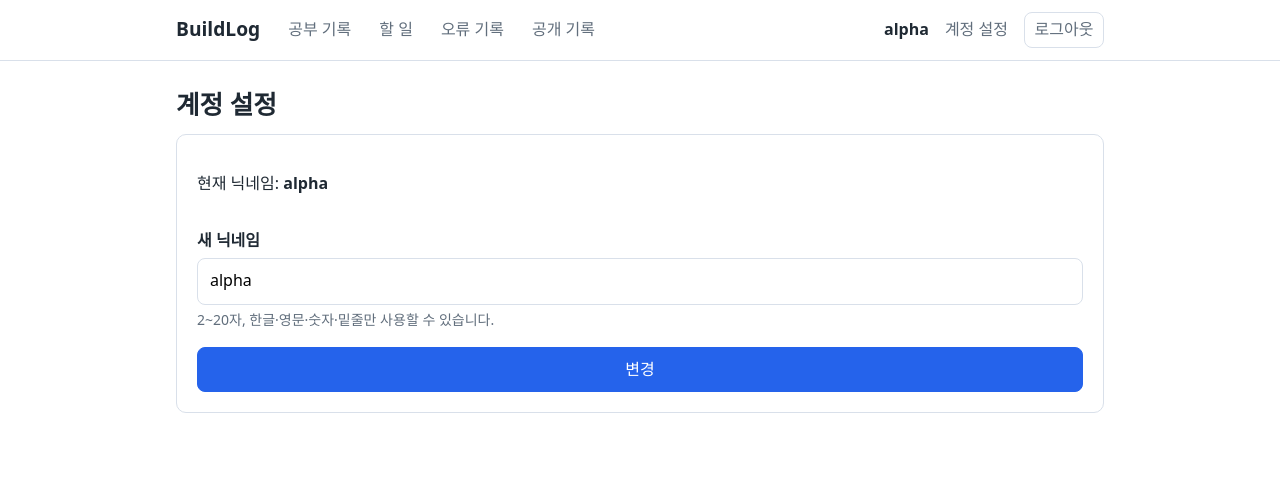
Test: 계정 설정(닉네임 변경) › 실패하면 이유를 알려주고 입력한 닉네임은 그대로 둔다
Replace the text in the field labelled "새 닉네임" with "taken": (640, 281) [197,258,1083,304]
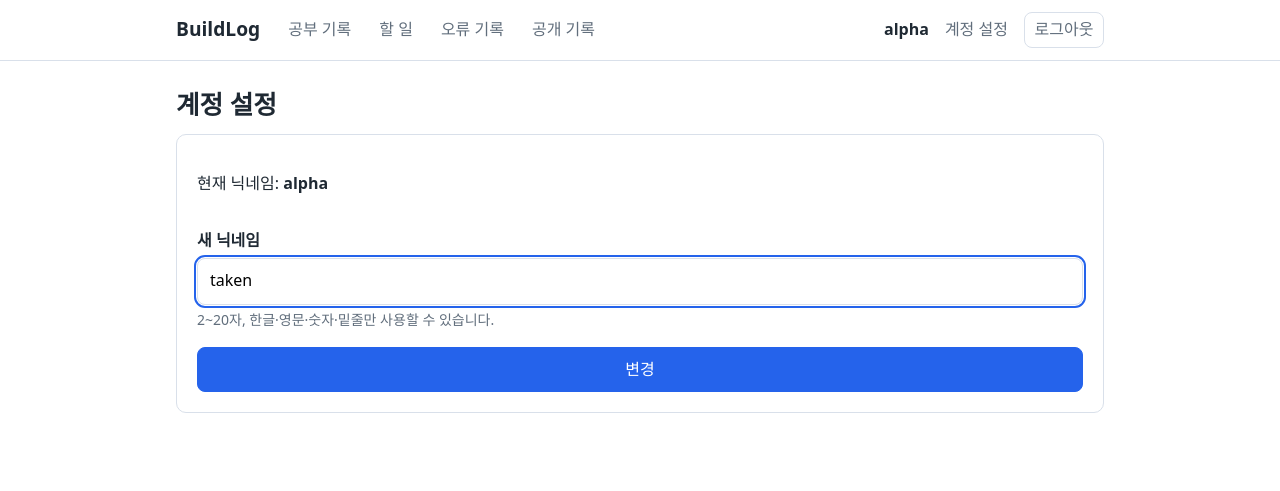
Click the button "변경": (640, 370) [197,347,1083,392]
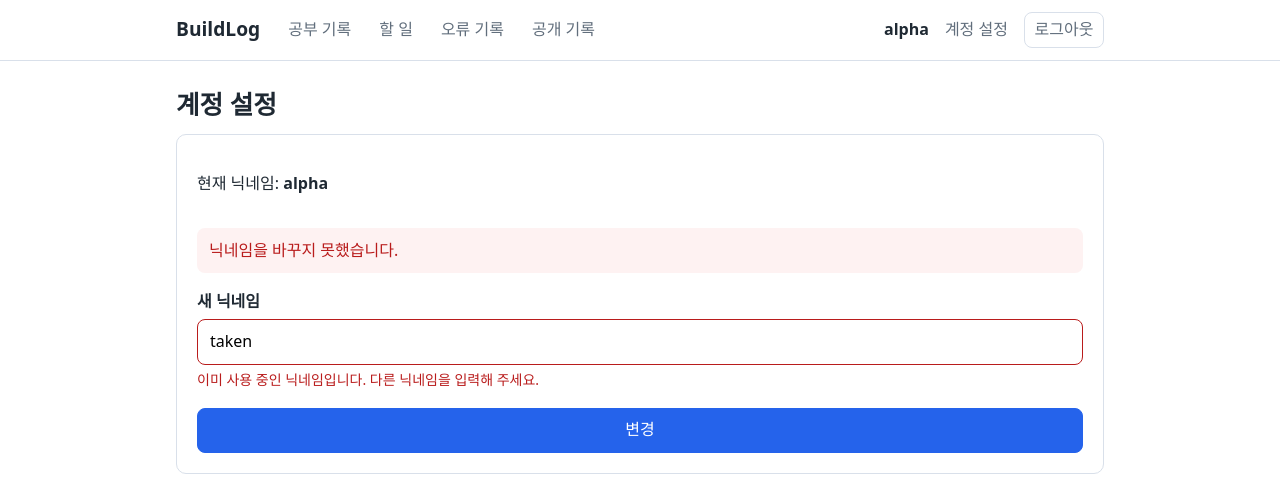
Expected: the text "alpha" next to "현재 닉네임:" is shown, [283,172,328,194]
Now the text "이미 사용 중인 닉네임입니다. 다른 닉네임을 입력해 주세요." is shown, box [197,370,539,389]
